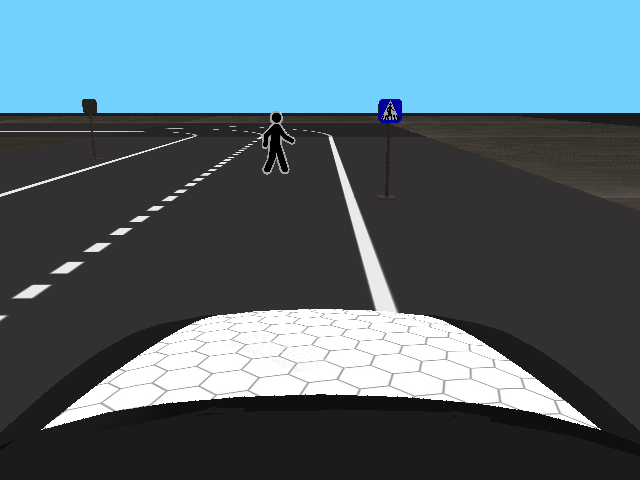pedestrian: (261, 111, 295, 174)
pedestrian_cross: (376, 98, 402, 123)
